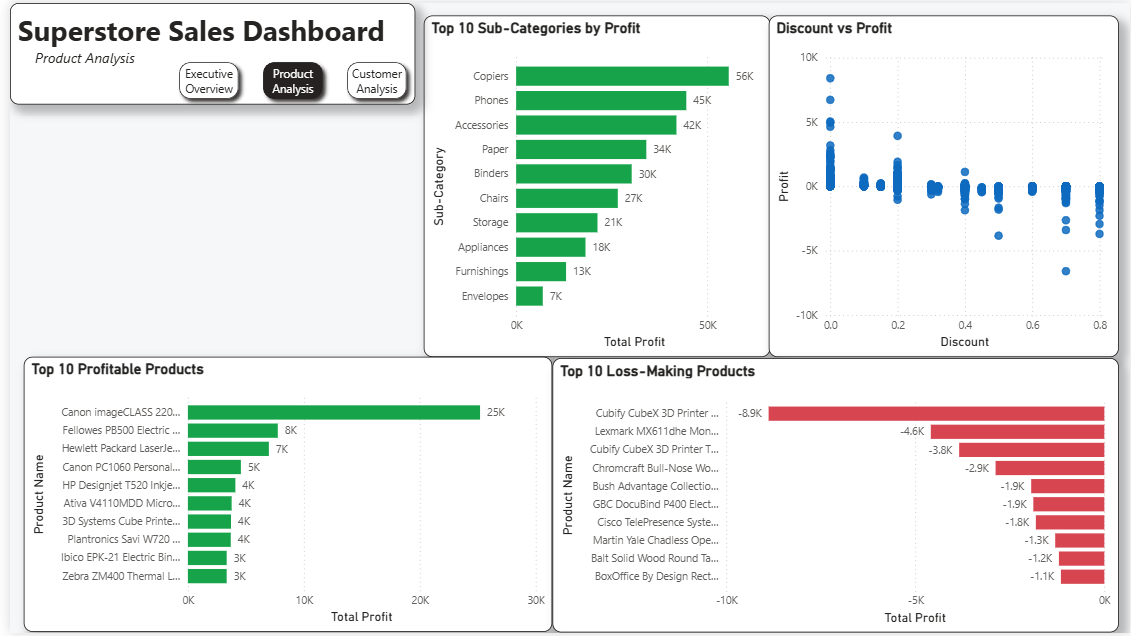

This screenshot's page, from the dashboard's own definition file:
{"tool":"powerbi","page":{"name":"Product Analysis","canvas":[1280,720],"ordinal":1},"visuals":[{"type":"clusteredBarChart","title":"Top 10 Sub-Categories by Profit","fields":{"Y":["Superstore.Total Profit"],"Category":["Superstore.Sub-Category"]},"box":[472.9,14.3,395.7,390],"z":0},{"type":"scatterChart","title":"Discount vs Profit","fields":{"X":["Superstore.Discount"],"Y":["Superstore.Profit"]},"box":[867.1,14.3,400,390],"z":1000},{"type":"barChart","title":"Top 10 Profitable Products","fields":{"Y":["Superstore.Total Profit"],"Category":["Superstore.Product Name"]},"box":[15.7,404.3,604.3,314.3],"z":2000},{"type":"barChart","title":"Top 10 Loss-Making Products","fields":{"Y":["Superstore.Total Profit"],"Category":["Superstore.Product Name"]},"box":[620,405.7,646.9,313.5],"z":3000},{"type":"textbox","box":[0,14.7,462.9,115.7],"z":5000},{"type":"pageNavigator","box":[184.1,69.9,278.5,60.1],"z":6000}]}

Visuals, with their boxes in screenshot pixels (x1, y1, x2, y2), scaled from the page's 1280x720 canvas onto the 1131x636 screenshot:
"Top 10 Sub-Categories by Profit" clusteredBarChart: <box>418,13,767,357</box>
"Discount vs Profit" scatterChart: <box>766,13,1120,357</box>
"Top 10 Profitable Products" barChart: <box>14,357,548,635</box>
"Top 10 Loss-Making Products" barChart: <box>548,358,1119,635</box>
textbox: <box>0,13,409,115</box>
pageNavigator: <box>163,62,409,115</box>
